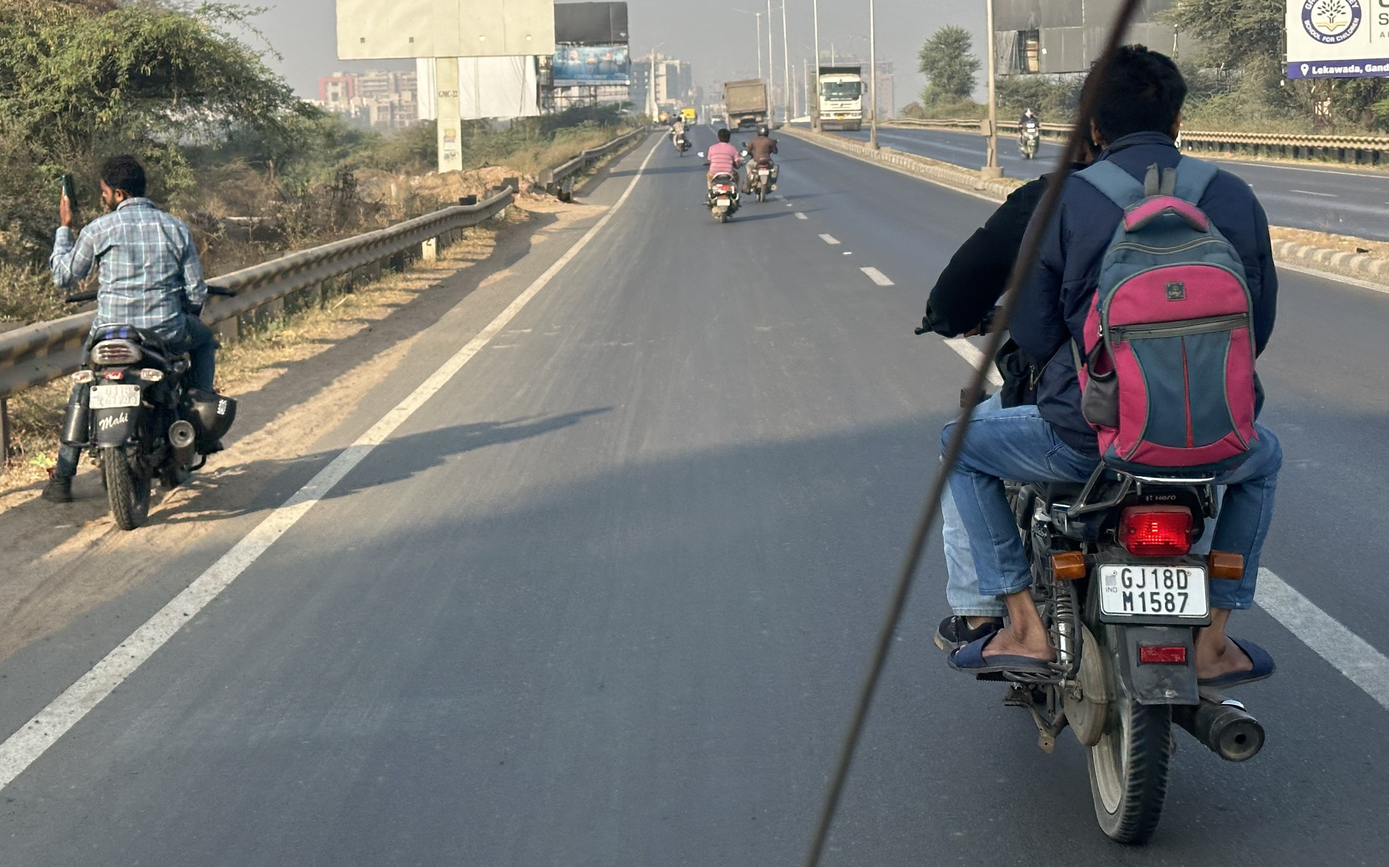BikeWithRider: (895, 47, 1305, 842), (0, 124, 268, 547), (737, 115, 791, 203), (702, 126, 742, 217), (661, 118, 688, 157)
NoHelmet: (1078, 53, 1201, 148), (79, 154, 164, 225)
